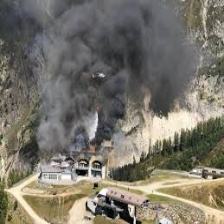smoke: (43, 4, 172, 150)
